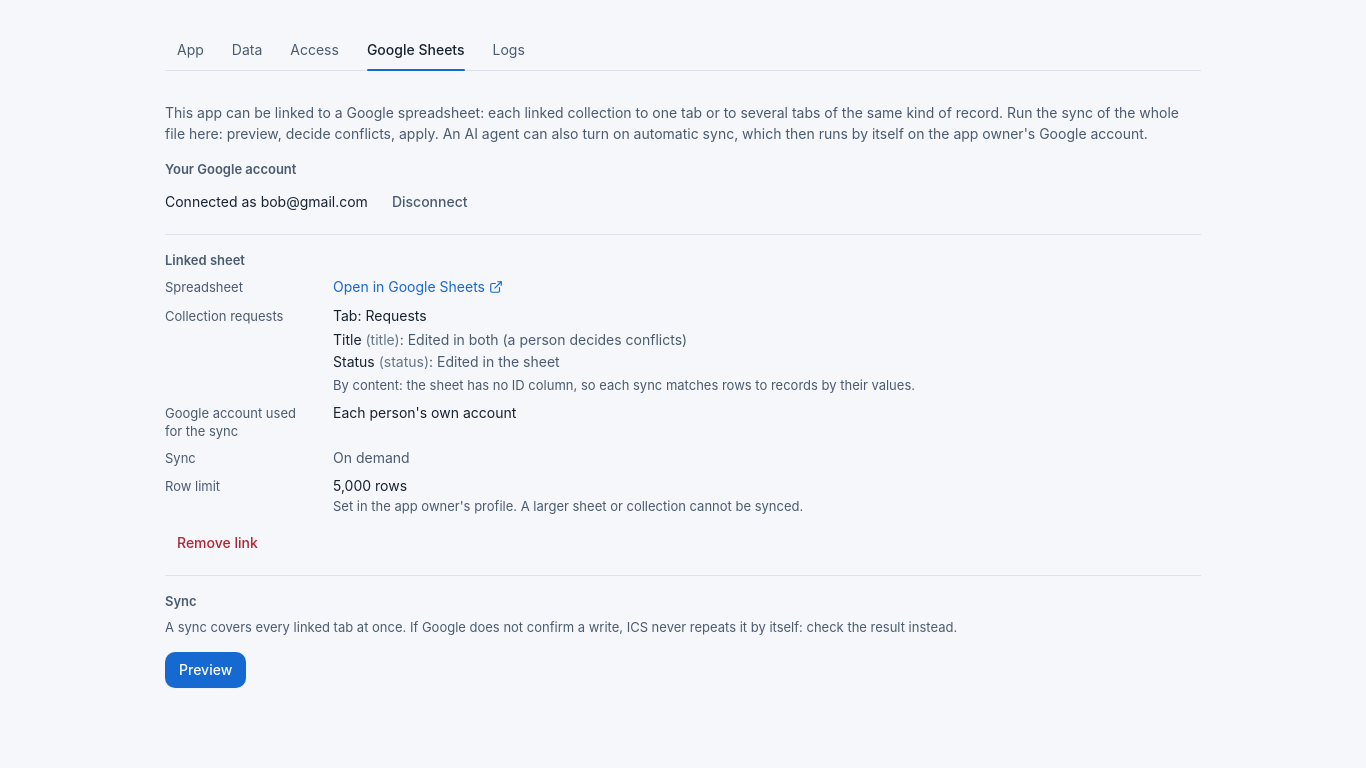
Test case: Google Sheets tab, the sync › gives the app owner's row limit when the sheet is too large
(page scrolled)
Step 1. Click the button "Preview" → [206, 670], box left=165, top=652, right=246, bottom=688
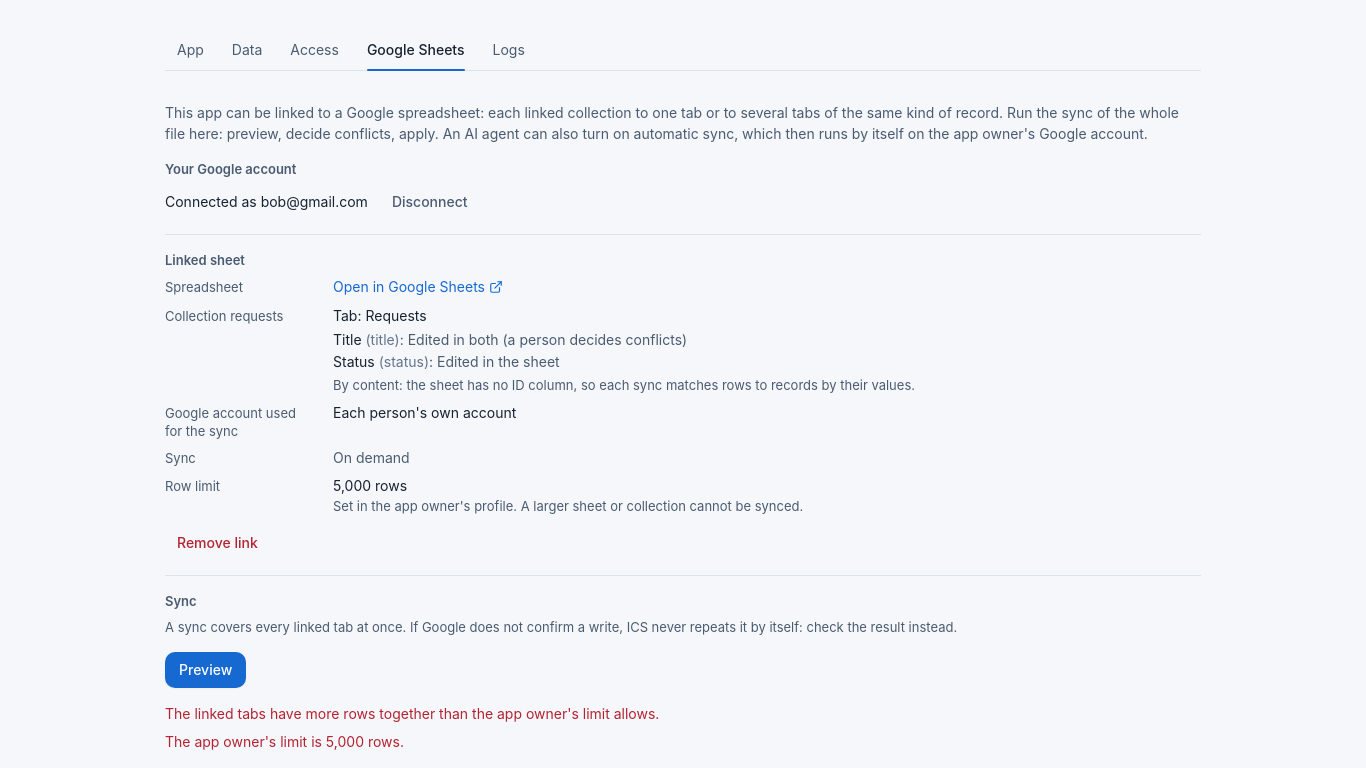
expect the message shows "The linked tabs have more rows together than the app owner's limit allows.": met, box left=165, top=705, right=659, bottom=722
expect the message shows "The app owner's limit is 5,000 rows.": met, box left=165, top=734, right=404, bottom=750
